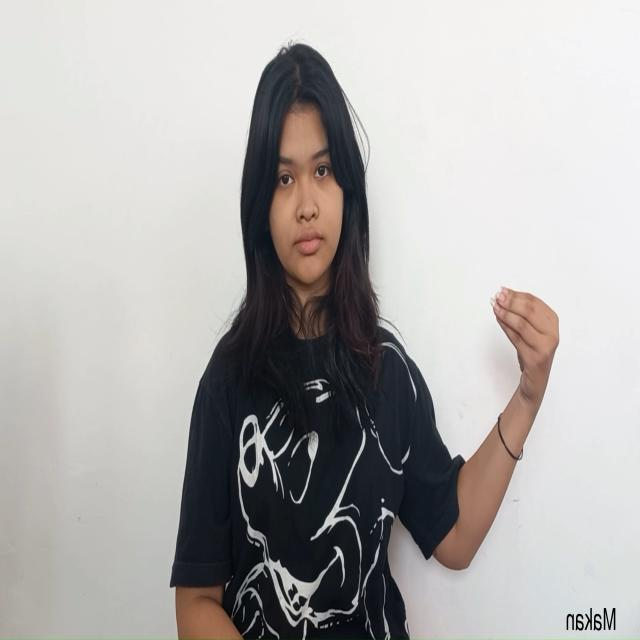Makan -BISINDO-: (488, 283, 561, 410)
